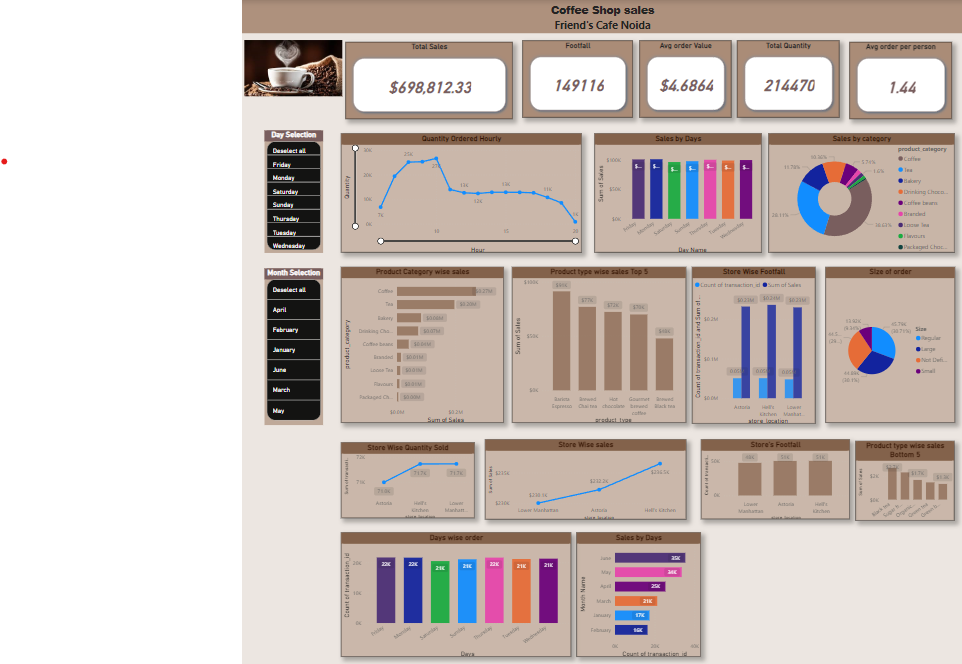

What the dashboard file says about the page in this screenshot:
{"tool":"powerbi","page":{"name":"DASHBOARD","canvas":[1650,1525],"ordinal":1},"visuals":[{"type":"lineChart","title":"Quantity Ordered  Hourly","fields":{"Category":["Transactions.Hour"],"Y":["Sum(Transactions.transaction_qty)"]},"box":[226,306,550,272],"z":0},{"type":"clusteredBarChart","title":"Product Category wise sales","fields":{"Category":["Transactions.product_category"],"Y":["Sum(Transactions.Sales)"]},"box":[225.2,612,372,356],"z":1000},{"type":"clusteredColumnChart","title":"Store Wise Footfall","fields":{"Category":["Transactions.store_location"],"Y":["CountNonNull(Transactions.transaction_id)","Sum(Transactions.Sales)"]},"box":[1029.2,610,282,358],"z":2000},{"type":"columnChart","title":"Sales by Days","fields":{"Category":["Transactions.Day Name"],"Y":["Sum(Transactions.Sales)"],"Series":["Transactions.Day of Week"]},"box":[805.2,306,382,272],"z":3000},{"type":"columnChart","title":"Product type wise sales Top 5","fields":{"Category":["Transactions.product_type"],"Y":["Sum(Transactions.Sales)"]},"box":[617.2,610,398,356],"z":4000},{"type":"donutChart","title":"Sales by category","fields":{"Category":["Transactions.product_category"],"Y":["Sum(Transactions.Sales)"]},"box":[1204.1,305.8,425.6,272.2],"z":5000},{"type":"lineChart","title":"Store Wise sales","fields":{"Category":["Transactions.store_location"],"Y":["Sum(Transactions.Sales)"]},"box":[555.2,1005.5,460,182.5],"z":6000},{"type":"lineChart","title":"Store Wise Quantity Sold","fields":{"Category":["Transactions.store_location"],"Y":["Sum(Transactions.transaction_qty)"]},"box":[225.2,1010.5,305,172.5],"z":7000},{"type":"columnChart","title":"Store''s Footfall","fields":{"Category":["Transactions.store_location"],"Y":["CountNonNull(Transactions.transaction_id)"]},"box":[1049.2,1006,340,182],"z":8000},{"type":"pieChart","title":"SIze of order","fields":{"Category":["Transactions.Size"],"Y":["CountNonNull(Transactions.transaction_id)"]},"box":[1334,610,296,356],"z":9000},{"type":"columnChart","title":"Days wise order","fields":{"Category":["Transactions.Day Name"],"Y":["CountNonNull(Transactions.transaction_id)"],"Series":["Transactions.Day of Week"]},"box":[225.2,1216,526,284],"z":10000},{"type":"barChart","title":"Sales by Days","fields":{"Category":["Transactions.Month Name"],"Y":["CountNonNull(Transactions.transaction_id)"],"Series":["Transactions.Month"]},"box":[765.2,1216,284,284],"z":11000},{"type":"advancedSlicerVisual","title":"Day Selection","fields":{"Values":["Transactions.Day Name"]},"box":[52,298.7,134,280],"z":12000},{"type":"advancedSlicerVisual","title":"Month Selection","fields":{"Values":["Transactions.Month Name"]},"box":[52,612.7,134,358],"z":13000},{"type":"columnChart","title":"Product type wise sales Bottom 5","fields":{"Category":["Transactions.product_type"],"Y":["Sum(Transactions.Sales)"]},"box":[1404,1006.7,226,182],"z":14000},{"type":"cardVisual","title":"Total Sales","fields":{"Data":["Transactions.Total Sales"]},"box":[236,94.7,382,176],"z":15000},{"type":"cardVisual","title":"Footfall","fields":{"Data":["Transactions.Footfall"]},"box":[640,94,252,176],"z":16000},{"type":"cardVisual","title":"Avg order Value","fields":{"Data":["Transactions.Avg order value"]},"box":[908,94,210,176],"z":17000},{"type":"cardVisual","title":"Total Quantity","fields":{"Data":["Transactions.Total Quantity"]},"box":[1132,94,234,176],"z":18000},{"type":"cardVisual","title":"Avg order per person","fields":{"Data":["Transactions.Avg quntity per customer"]},"box":[1390,94.7,234,176],"z":19000},{"type":"textbox","box":[0,0,1648,76],"z":20000},{"type":"image","box":[0,8,234,298],"z":21000}]}

Visuals, with their boxes in screenshot pixels (x1, y1, x2, y2):
"Quantity Ordered  Hourly" lineChart: (339, 131, 583, 252)
"Product Category wise sales" clusteredBarChart: (338, 267, 504, 426)
"Store Wise Footfall" clusteredColumnChart: (696, 266, 822, 426)
"Sales by Days" columnChart: (596, 131, 766, 252)
"Product type wise sales Top 5" columnChart: (513, 266, 690, 425)
"Sales by category" donutChart: (774, 131, 961, 252)
"Store Wise sales" lineChart: (485, 443, 690, 524)
"Store Wise Quantity Sold" lineChart: (338, 445, 474, 522)
"Store''s Footfall" columnChart: (705, 443, 856, 524)
"SIze of order" pieChart: (832, 266, 961, 425)
"Days wise order" columnChart: (338, 536, 572, 663)
"Sales by Days" barChart: (579, 536, 705, 663)
"Day Selection" advancedSlicerVisual: (261, 128, 321, 253)
"Month Selection" advancedSlicerVisual: (261, 268, 321, 427)
"Product type wise sales Bottom 5" columnChart: (863, 443, 961, 524)
"Total Sales" cardVisual: (343, 37, 513, 115)
"Footfall" cardVisual: (523, 37, 635, 115)
"Avg order Value" cardVisual: (642, 37, 736, 115)
"Total Quantity" cardVisual: (742, 37, 846, 115)
"Avg order per person" cardVisual: (857, 37, 961, 115)
textbox: (238, 0, 961, 29)
image: (238, 0, 342, 131)
